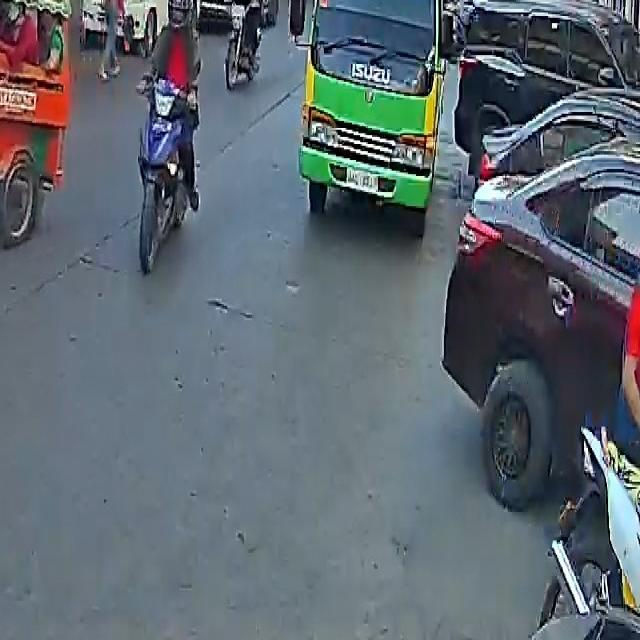car: (440, 150, 640, 510), (451, 0, 639, 172), (82, 0, 199, 59), (200, 0, 271, 18)
